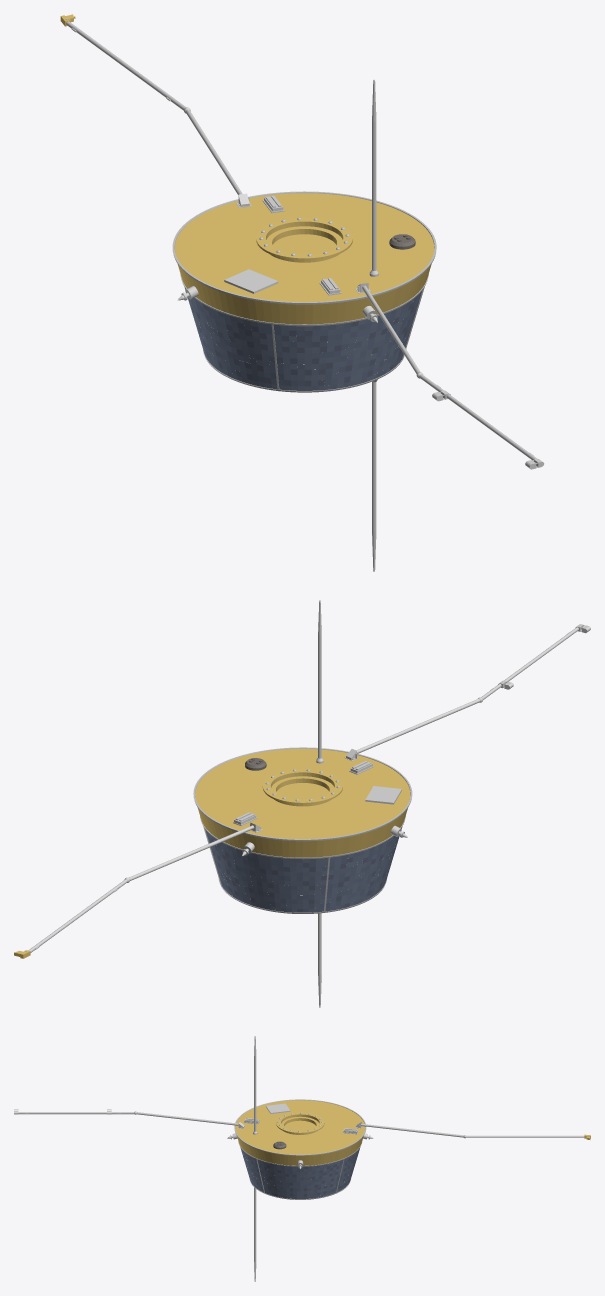
The model's file is cluster.glb.
3 renders of one model, top to bottom at view 1: azimuth 30°, elevation 25°; view 2: azimuth 150°, elevation 25°; view 3: azimuth 270°, elevation 25°, orthographic. The views are drawn at different scales.
Visible parts, largest first — view 1: Layer_0; view 2: Layer_0; view 3: Layer_0.
Boxes of the visible parts, box(x1,y1,x2,y2) form: Layer_0: box(60, 14, 544, 571); Layer_0: box(14, 600, 590, 1007); Layer_0: box(14, 1036, 590, 1281).
Size of the model in its own units: 7.86 by 14.55 by 30.97.
Materials: 1 (1 with a texture image).
